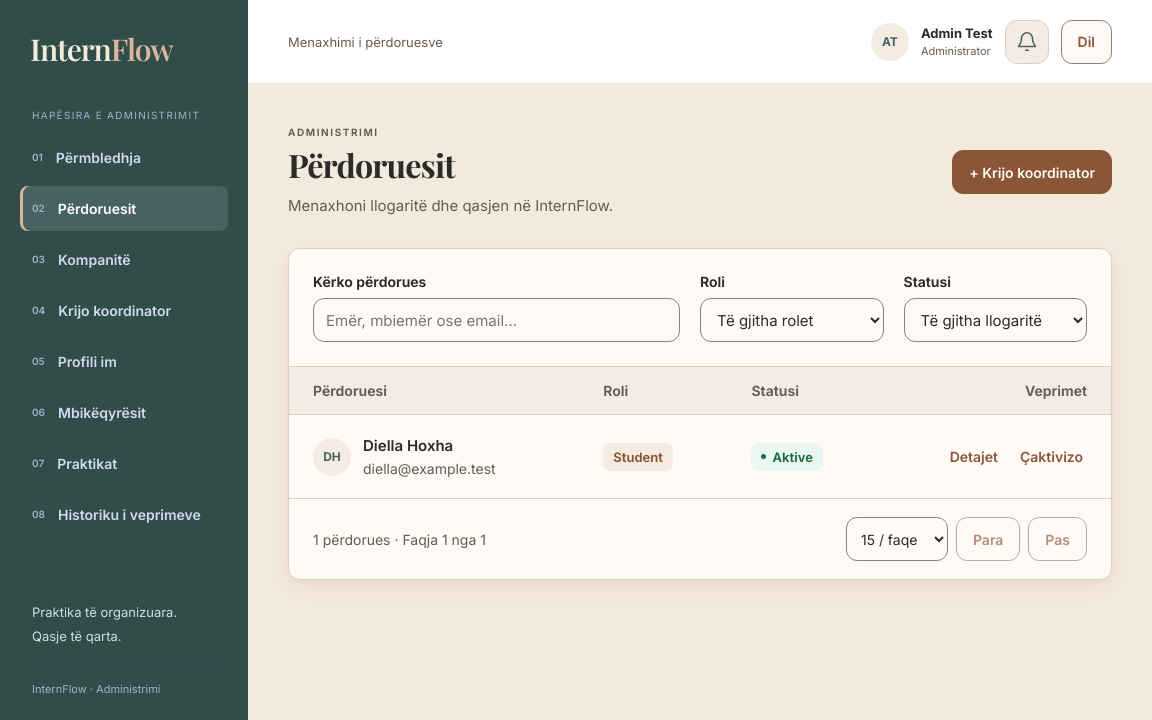
Scenario: Admin area › keeps the confirmation open when the backend blocks activation
The image size is (1152, 720).
Click the button "Çaktivizo" at x=1052, y=457, box [1016, 444, 1087, 469]
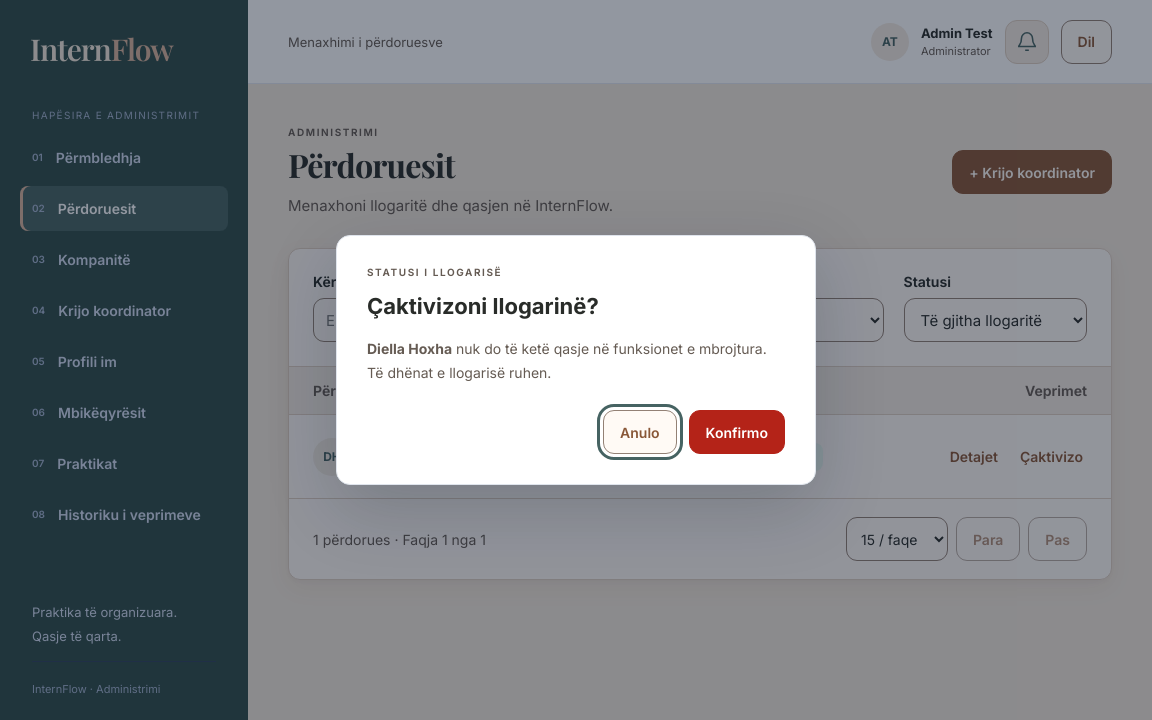
Click the button "Konfirmo" at x=737, y=432, box [689, 410, 785, 454]
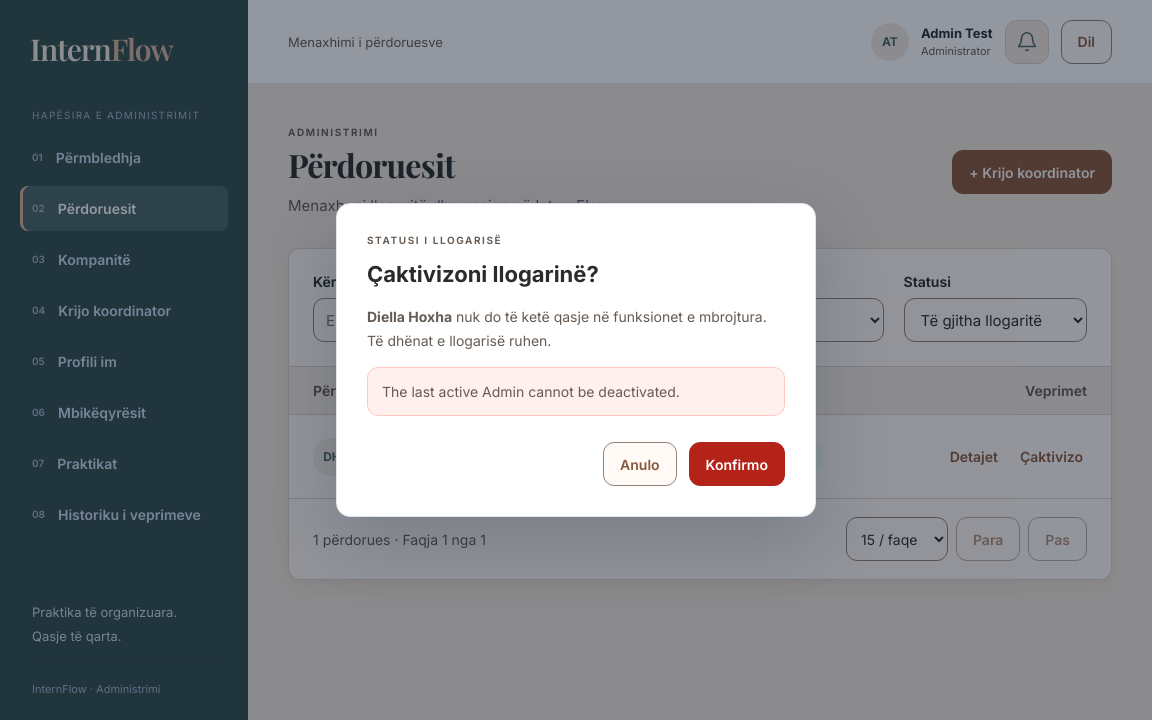
Check: the dialog is shown, box [336, 203, 816, 517]
Check: the message reads "The last active Admin cannot be deactivated.", box [382, 382, 680, 400]
